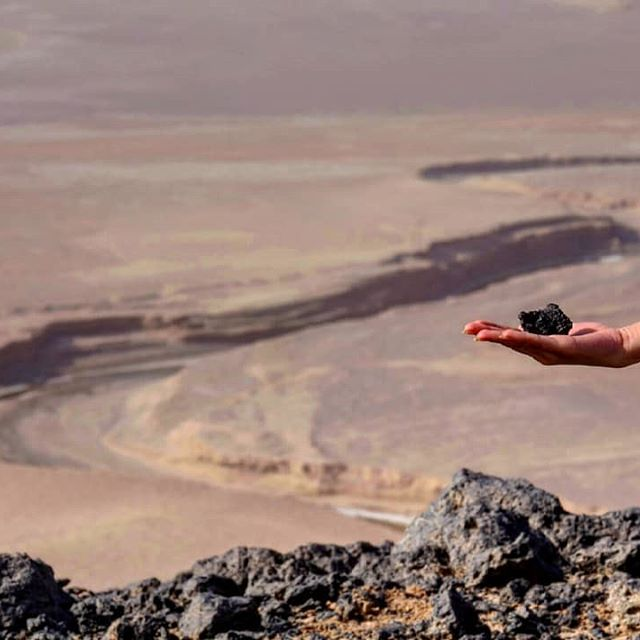volcanic_rock: (386, 476, 614, 640), (175, 554, 427, 636)
